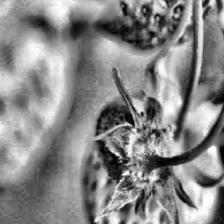Gray Mold: (86, 65, 196, 224)
